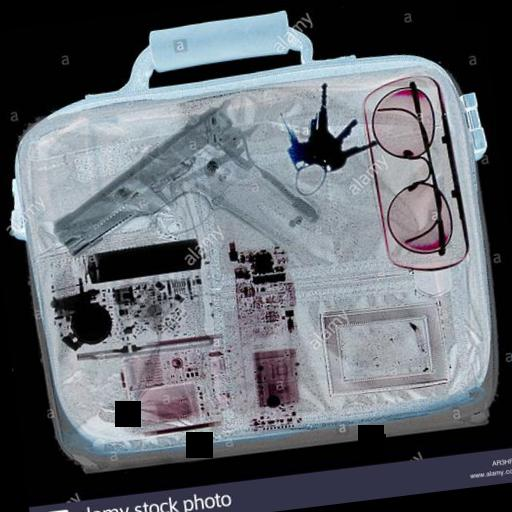Handgun: (37, 88, 326, 270)
